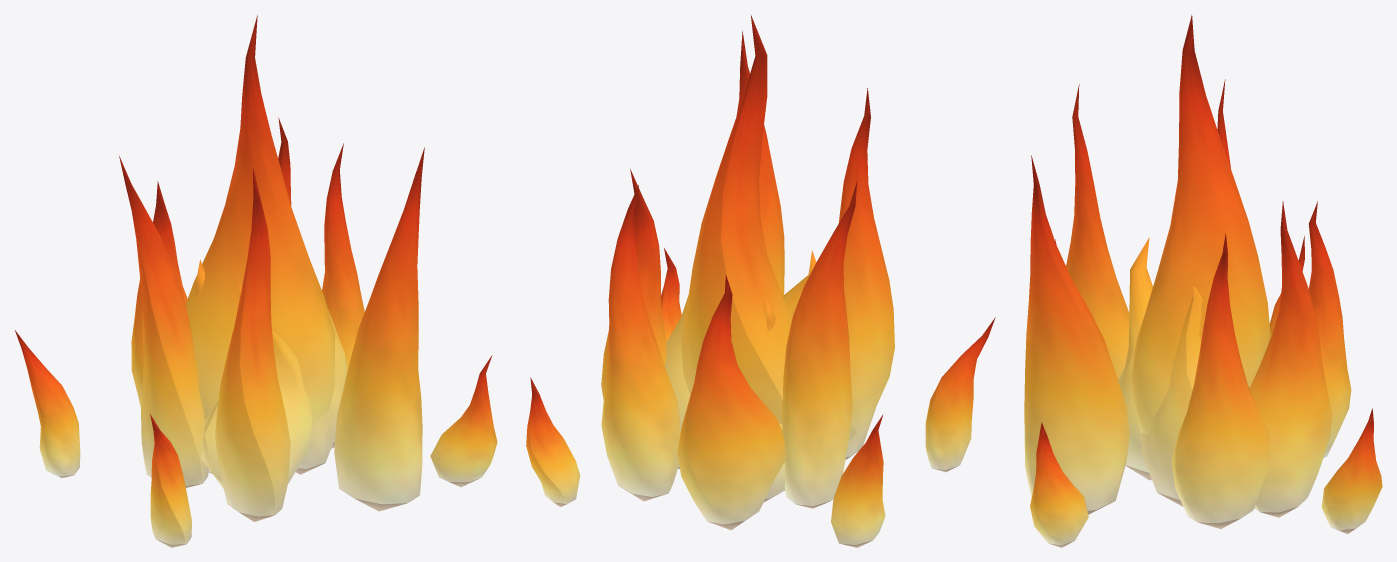
File: flame_fire.glb
3 views of the same model, side by side, from view 1: azimuth 30°, elevation 25°; view 2: azimuth 150°, elevation 25°; view 3: azimuth 270°, elevation 25° (orthographic).
Size of the model in its own units: 0.8245 by 1.07 by 0.7153.
Materials: 1 (1 with a texture image).
